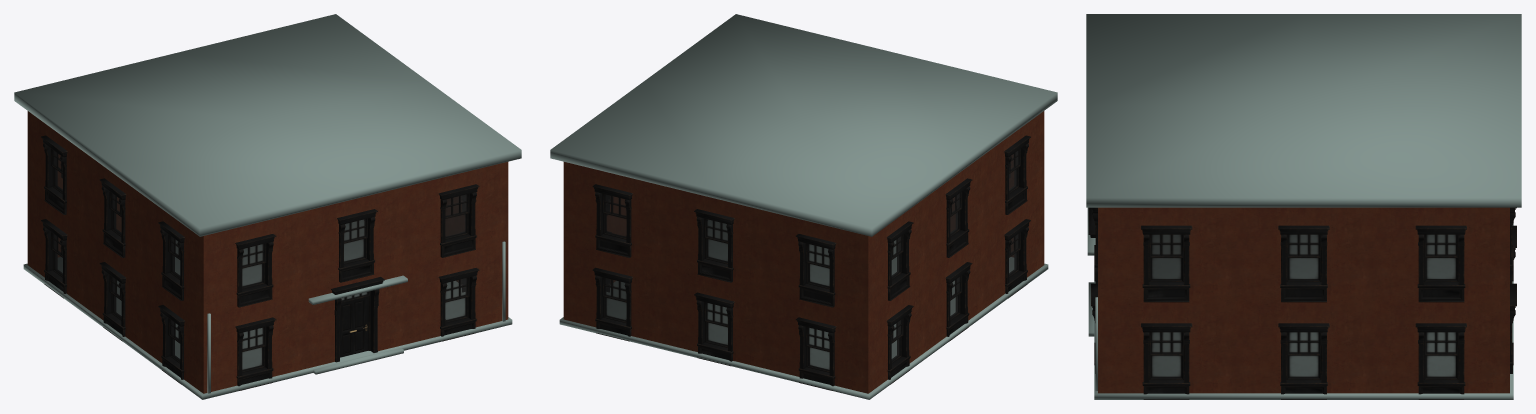
Rendered from island_block.glb.
The picture shows the model from 3 angles, left to right: view 1: azimuth 30°, elevation 25°; view 2: azimuth 150°, elevation 25°; view 3: azimuth 270°, elevation 25°; orthographic projection. The views are drawn at different scales.
Parts seen in each view (by area): view 1: island_block; view 2: island_block; view 3: island_block.
Part boxes in pixels (x1,y1,x2,y2): island_block: (14, 14, 521, 399); island_block: (550, 14, 1057, 399); island_block: (1086, 14, 1521, 399).
Size of the model in its own units: 12 by 6.25 by 12.
4 materials, 3 textured.
